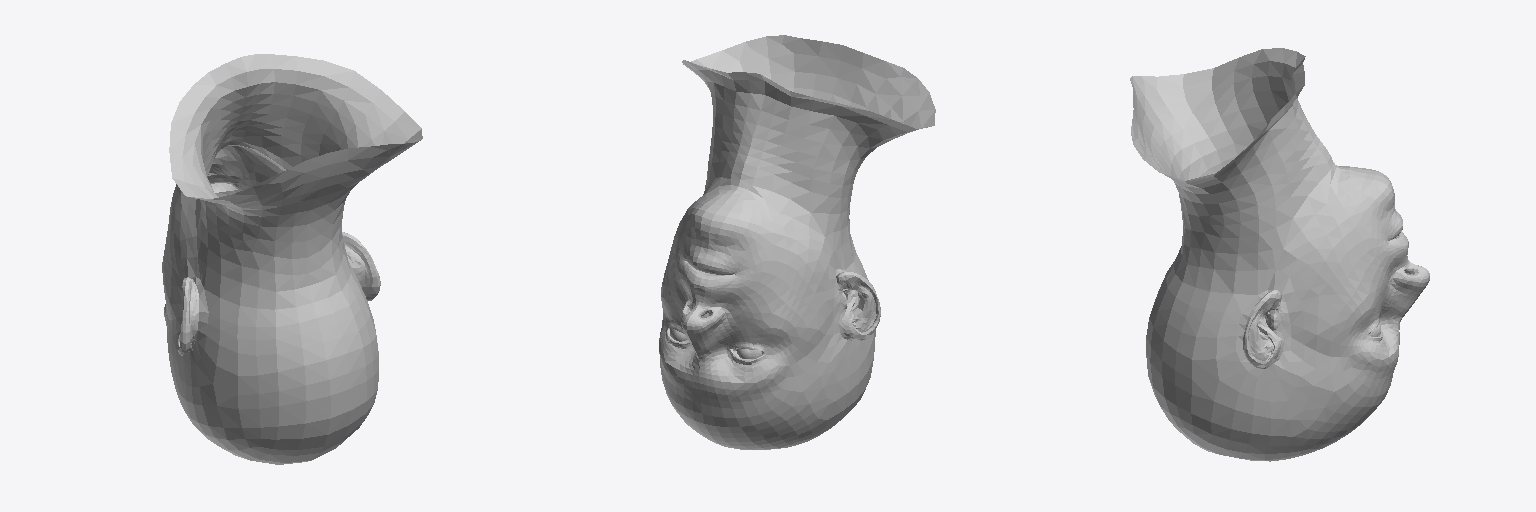
The model's file is scan_textured.obj.
3 views of the same model, side by side, from view 1: azimuth 30°, elevation 25°; view 2: azimuth 150°, elevation 25°; view 3: azimuth 270°, elevation 25° (orthographic).
Bounding box in the file's own units: 0.2158 × 0.3326 × 0.2366.